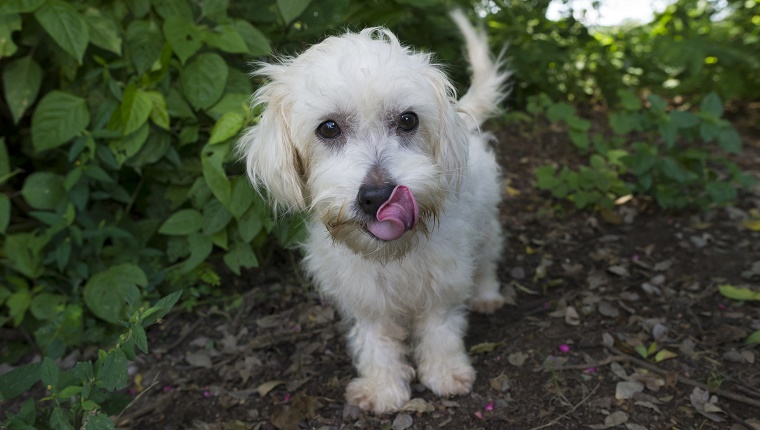tail: (437, 8, 521, 132)
